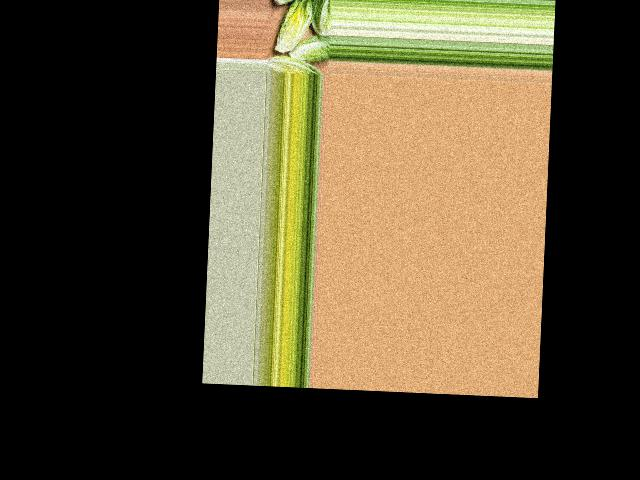lettuce: (266, 53, 322, 75)
